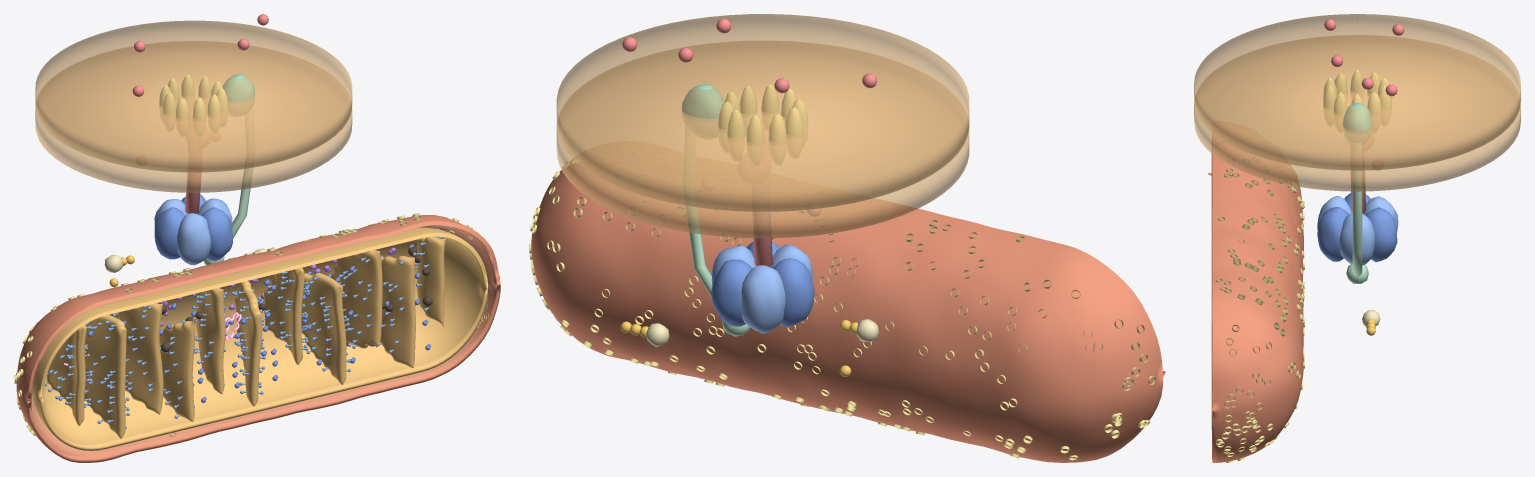
File: mitochondrion.glb
3 views of the same model, side by side, from view 1: azimuth 30°, elevation 25°; view 2: azimuth 150°, elevation 25°; view 3: azimuth 270°, elevation 25° (orthographic). The views are drawn at different scales.
Visible parts, largest first — view 1: Inner Membrane Patch (IMS side), Inner Membrane Patch (matrix side), Cristae, Inner Membrane, Outer Membrane, ATP Synthase, Intermembrane Space, c-Ring (Fo rotor), F1 Head - beta subunits (x3), F1 Head - alpha subunits (x3), Mitoribosomes (70S), Porins (VDAC) (+4 smaller); view 2: Outer Membrane, Inner Membrane Patch (IMS side), Inner Membrane Patch (matrix side), Porins (VDAC), c-Ring (Fo rotor), F1 Head - beta subunits (x3), F1 Head - alpha subunits (x3), a-Subunit (proton channel), Peripheral Stalk (b, OSCP), Central Stalk (gamma/epsilon), Protons (H+).001; view 3: Inner Membrane Patch (IMS side), Inner Membrane Patch (matrix side), Outer Membrane, Porins (VDAC), c-Ring (Fo rotor), F1 Head - beta subunits (x3), F1 Head - alpha subunits (x3), Peripheral Stalk (b, OSCP), a-Subunit (proton channel), Protons (H+).001, Cristae.
Part boxes in pixels (x1,y1,x2,y2): Inner Membrane Patch (IMS side): [35, 20, 352, 172]; Inner Membrane Patch (matrix side): [35, 41, 352, 192]; Cristae: [47, 236, 445, 438]; Inner Membrane: [31, 227, 487, 450]; Outer Membrane: [16, 215, 500, 462]; ATP Synthase: [44, 236, 441, 428]; Intermembrane Space: [31, 225, 492, 455]; c-Ring (Fo rotor): [159, 75, 228, 137]; F1 Head - beta subunits (x3): [154, 195, 232, 261]; F1 Head - alpha subunits (x3): [154, 198, 232, 265]; Mitoribosomes (70S): [87, 244, 430, 402]; Porins (VDAC): [14, 213, 489, 450]; Outer Membrane: [531, 159, 1165, 462]; Inner Membrane Patch (IMS side): [556, 14, 969, 211]; Inner Membrane Patch (matrix side): [556, 41, 969, 238]; Porins (VDAC): [529, 160, 1155, 460]; c-Ring (Fo rotor): [718, 84, 807, 166]; F1 Head - beta subunits (x3): [711, 241, 814, 327]; F1 Head - alpha subunits (x3): [711, 244, 812, 333]; a-Subunit (proton channel): [681, 84, 724, 139]; Peripheral Stalk (b, OSCP): [685, 128, 750, 336]; Central Stalk (gamma/epsilon): [752, 130, 772, 266]; Protons (H+).001: [622, 18, 877, 216]; Inner Membrane Patch (IMS side): [1194, 14, 1520, 170]; Inner Membrane Patch (matrix side): [1194, 35, 1520, 191]; Outer Membrane: [1208, 133, 1303, 462]; Porins (VDAC): [1215, 141, 1304, 462]; c-Ring (Fo rotor): [1323, 69, 1391, 132]; F1 Head - beta subunits (x3): [1317, 193, 1397, 262]; F1 Head - alpha subunits (x3): [1317, 196, 1398, 265]; Peripheral Stalk (b, OSCP): [1346, 143, 1368, 283]; a-Subunit (proton channel): [1343, 103, 1372, 144]; Protons (H+).001: [1324, 19, 1404, 170]; Cristae: [1211, 153, 1212, 430].
Bounding box in the file's own units: 12.44 × 8.27 × 7.2.
